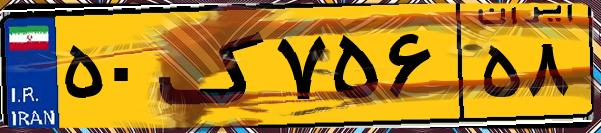0: (110, 28, 158, 98)
5: (330, 28, 385, 110), (57, 26, 110, 100), (475, 38, 525, 113)
6: (385, 28, 445, 110)
7: (270, 28, 330, 110)
8: (525, 38, 570, 115)
ک: (158, 12, 270, 120)
